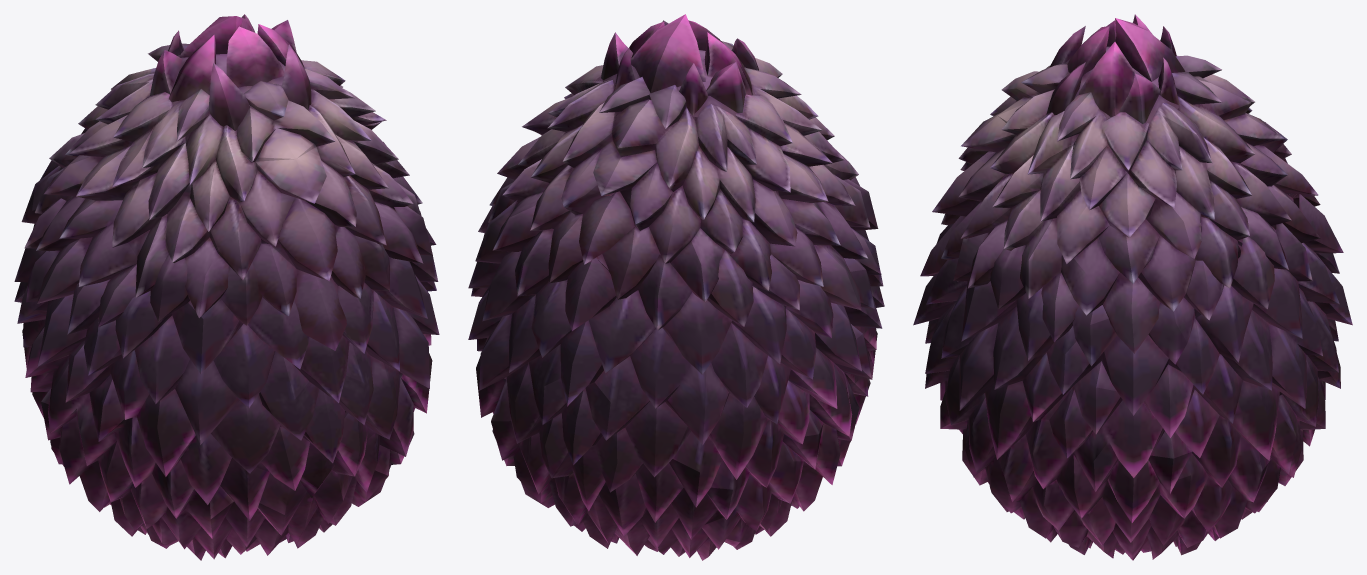
Rendered from Egg_out.fbx.
3 renders of one model, left to right at view 1: azimuth 30°, elevation 25°; view 2: azimuth 150°, elevation 25°; view 3: azimuth 270°, elevation 25°, orthographic. The views are drawn at different scales.
Parts seen in each view (by area): view 1: polySurface302, polySurface314, polySurface290, polySurface296, polySurface310, polySurface308, polySurface301, polySurface309, polySurface284, polySurface293, polySurface254, polySurface283 (+30 smaller); view 2: polySurface286, polySurface295, polySurface279, polySurface288, polySurface315, polySurface306, polySurface244, polySurface300, polySurface276, polySurface237, polySurface301, polySurface253 (+29 smaller); view 3: polySurface259, polySurface260, polySurface246, polySurface267, polySurface244, polySurface235, polySurface272, polySurface258, polySurface266, polySurface245, polySurface268, polySurface237 (+28 smaller).
Boxes of the visible parts, <box> form: polySurface302: <box>112,89,222,247</box>; polySurface314: <box>128,160,261,317</box>; polySurface290: <box>175,297,338,444</box>; polySurface296: <box>211,351,332,490</box>; polySurface310: <box>216,81,314,246</box>; polySurface308: <box>114,389,232,518</box>; polySurface301: <box>36,196,137,327</box>; polySurface309: <box>37,279,148,419</box>; polySurface284: <box>252,197,335,350</box>; polySurface293: <box>150,254,262,373</box>; polySurface254: <box>323,342,402,476</box>; polySurface283: <box>186,458,306,555</box>; polySurface286: <box>630,250,767,444</box>; polySurface295: <box>573,356,690,510</box>; polySurface279: <box>584,150,700,299</box>; polySurface288: <box>694,104,828,246</box>; polySurface315: <box>567,254,691,406</box>; polySurface306: <box>635,393,768,522</box>; polySurface244: <box>468,200,540,390</box>; polySurface300: <box>731,254,833,379</box>; polySurface276: <box>617,85,720,219</box>; polySurface237: <box>530,140,620,282</box>; polySurface301: <box>770,199,881,310</box>; polySurface253: <box>506,344,588,510</box>; polySurface259: <box>1041,219,1195,353</box>; polySurface260: <box>1027,92,1149,263</box>; polySurface246: <box>1098,103,1214,258</box>; polySurface267: <box>1022,305,1169,434</box>; polySurface244: <box>1222,236,1322,408</box>; polySurface235: <box>1049,387,1164,522</box>; polySurface272: <box>960,155,1065,298</box>; polySurface258: <box>1148,260,1253,394</box>; polySurface266: <box>968,381,1073,502</box>; polySurface245: <box>1148,415,1240,531</box>; polySurface268: <box>958,64,1068,201</box>; polySurface237: <box>1224,114,1320,243</box>.
Bounding box in the file's own units: 21.19 × 28.42 × 21.62.
